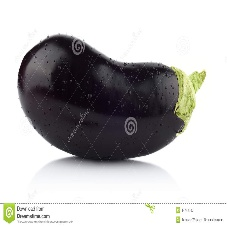eggplant: (16, 33, 193, 161)
